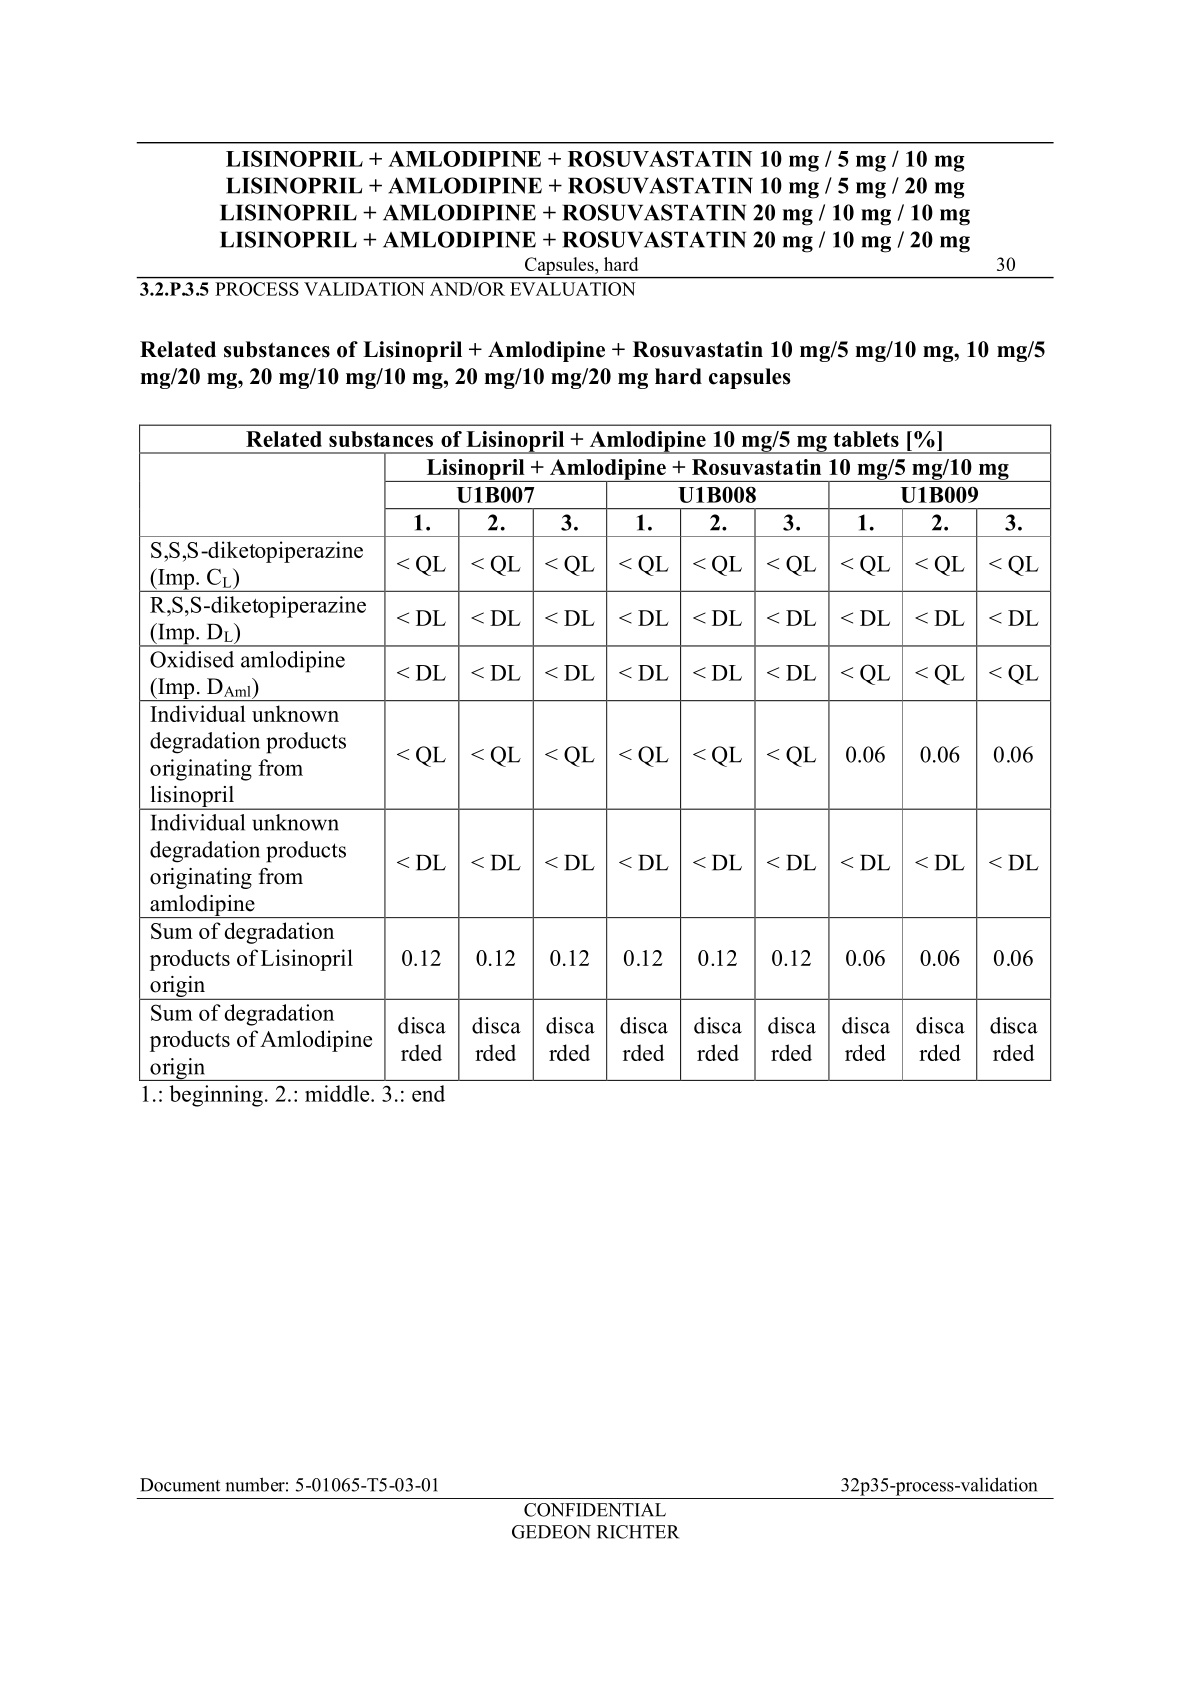merged_cells: (138, 423, 1052, 1081)
